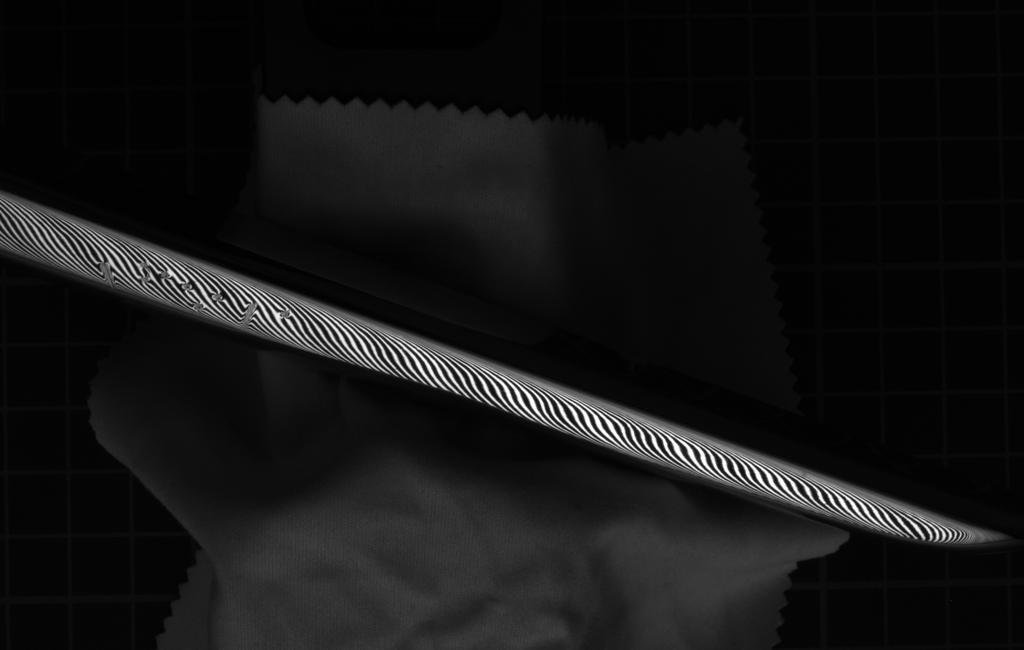Pierced: (175, 276, 199, 294), (190, 297, 212, 315), (209, 288, 230, 305), (277, 305, 295, 324), (156, 265, 175, 283)
Scratch: (91, 258, 126, 291), (237, 295, 266, 332), (137, 250, 155, 296)
